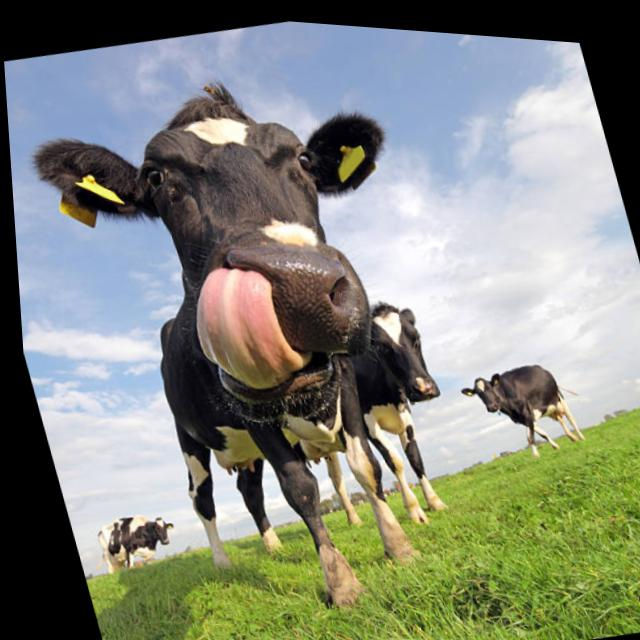cowFace: (13, 31, 463, 477)
